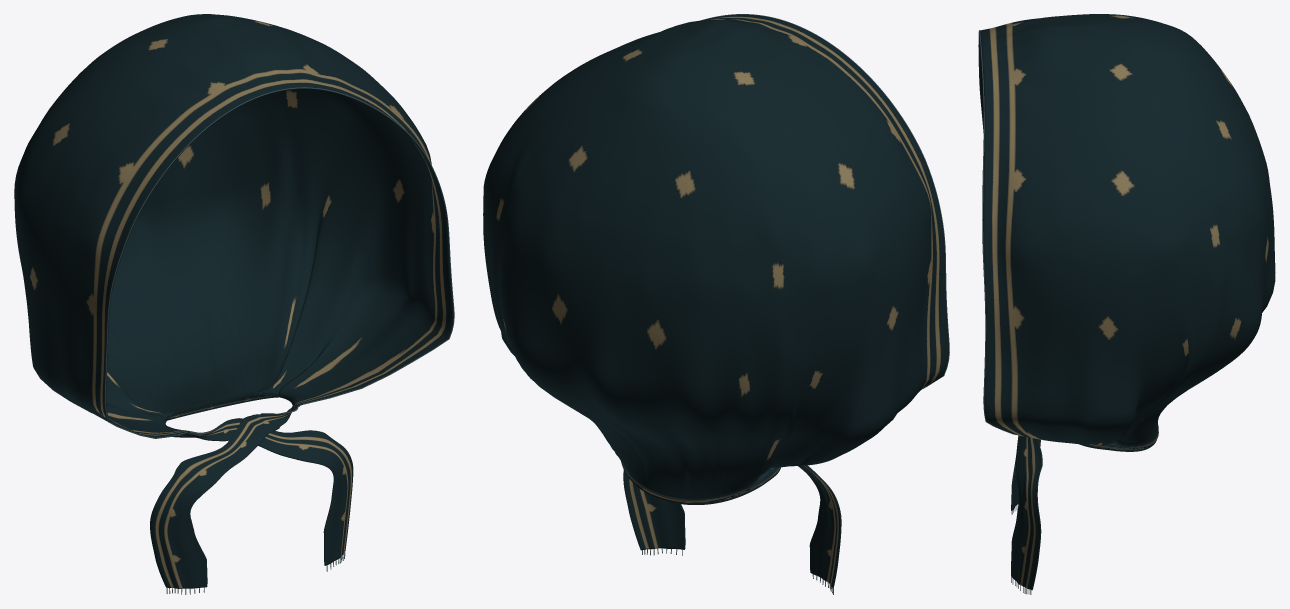
File: Masculine-sidepart-jersey-pashmina249-headgear.glb
The picture shows the model from 3 angles, left to right: view 1: azimuth 30°, elevation 25°; view 2: azimuth 150°, elevation 25°; view 3: azimuth 270°, elevation 25°; orthographic projection. The views are drawn at different scales.
Visible parts, largest first — view 1: 226 headgear / Headwear / continuous woven pashmina239, 226 headgear / Headwear / face edge239; view 2: 226 headgear / Headwear / continuous woven pashmina239, 226 headgear / Headwear / face edge239; view 3: 226 headgear / Headwear / continuous woven pashmina239, 226 headgear / Headwear / face edge239.
Part boxes in pixels (box(x1,y1,x2,y2)): 226 headgear / Headwear / continuous woven pashmina239: box(14, 14, 453, 588); 226 headgear / Headwear / face edge239: box(104, 87, 454, 438); 226 headgear / Headwear / continuous woven pashmina239: box(483, 14, 948, 588); 226 headgear / Headwear / face edge239: box(700, 14, 949, 389); 226 headgear / Headwear / continuous woven pashmina239: box(979, 14, 1275, 590); 226 headgear / Headwear / face edge239: box(978, 30, 1015, 434).
Bounding box in the file's own units: 1.04 × 1.42 × 0.7321.
Materials: 3 (1 with a texture image).
